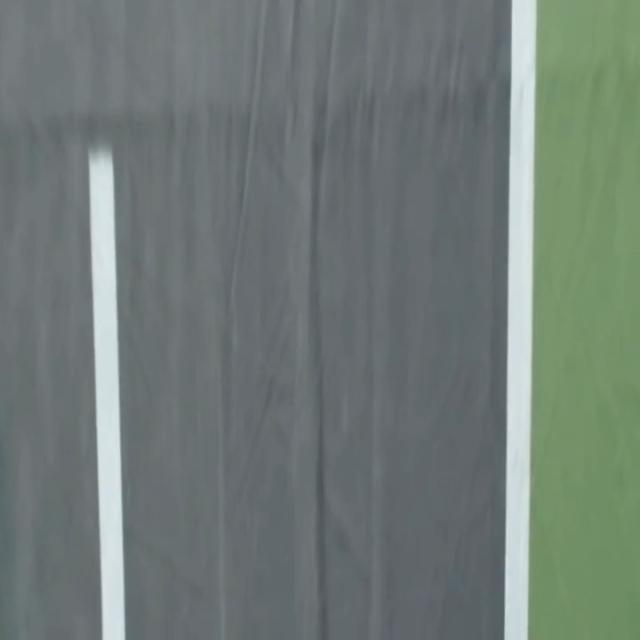center: (88, 147, 124, 639)
right: (505, 0, 535, 639)
